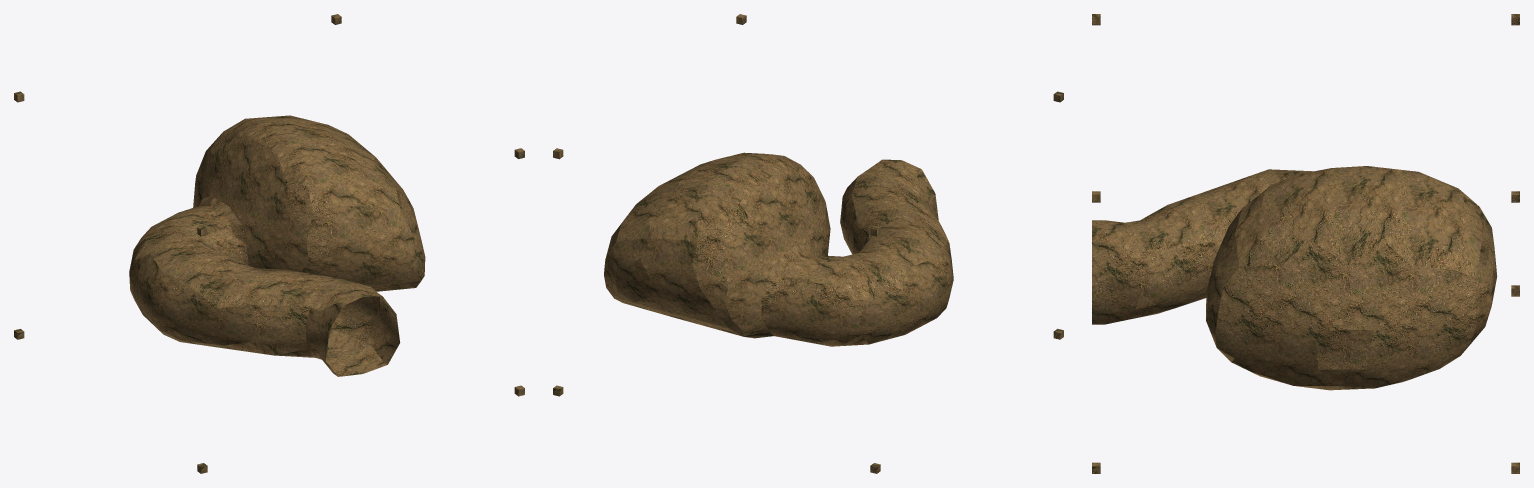
File: lba_1g.glb
3 views of the same model, side by side, from view 1: azimuth 30°, elevation 25°; view 2: azimuth 150°, elevation 25°; view 3: azimuth 270°, elevation 25° (orthographic). The views are drawn at different scales.
Parts seen in each view (by area): view 1: lba_1g-col; view 2: lba_1g-col; view 3: lba_1g-col.
Part boxes in pixels (<box>): lba_1g-col: <box>14,14,524,473</box>; lba_1g-col: <box>553,14,1063,473</box>; lba_1g-col: <box>1092,14,1519,473</box>.
Bounding box in the file's own units: 15 × 10.8 × 15.
Materials: 1 (1 with a texture image).
